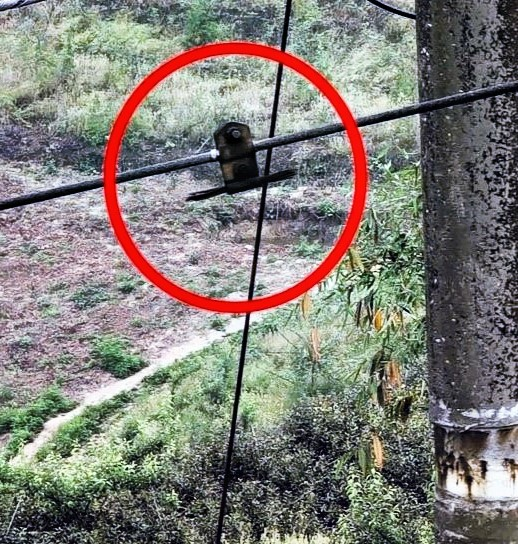Damage of shockproof hammer: (178, 112, 305, 214)
